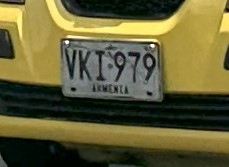number plate: (62, 39, 162, 101)
